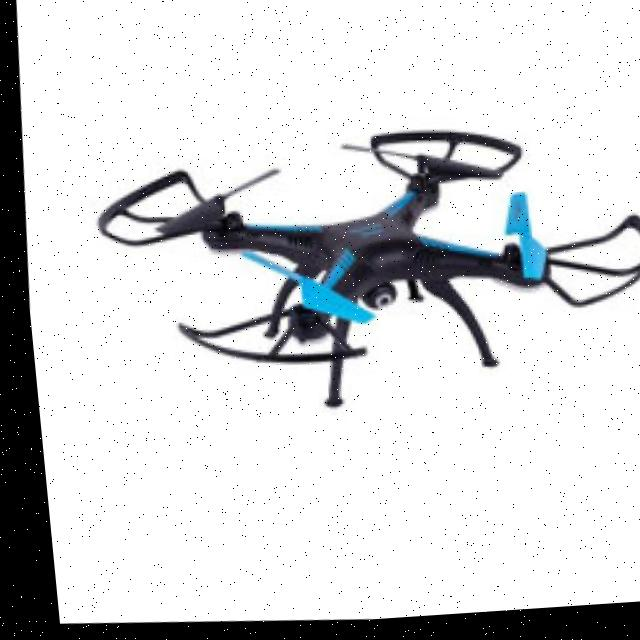drones: (58, 88, 640, 461)
